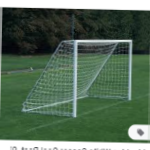goals: (23, 36, 134, 118)
